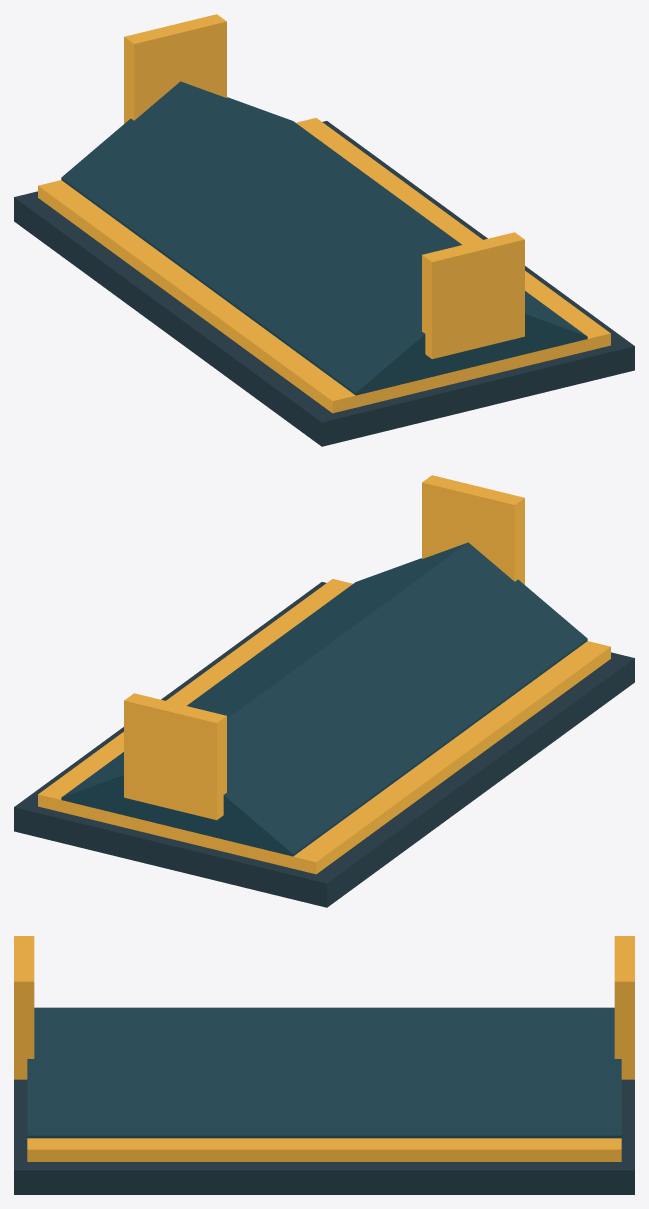
The model's file is seesaw-pivot.glb.
3 views of the same model, one above another, from view 1: azimuth 30°, elevation 25°; view 2: azimuth 150°, elevation 25°; view 3: azimuth 270°, elevation 25° (orthographic).
Visible parts, largest first — view 1: Frame.001, Dark, Rail, Frame, Rail.002, Rail.001; view 2: Frame.001, Dark, Rail, Frame, Rail.001, Rail.002; view 3: Frame, Dark, Rail, Rail.001, Rail.002.
Boxes of the visible parts, bbox=[...] form: Frame.001: bbox=[61, 81, 471, 395]; Dark: bbox=[14, 121, 634, 446]; Rail: bbox=[38, 118, 610, 413]; Frame: bbox=[181, 81, 587, 366]; Rail.002: bbox=[422, 232, 524, 359]; Rail.001: bbox=[124, 14, 226, 123]; Frame.001: bbox=[177, 542, 587, 856]; Dark: bbox=[14, 582, 634, 907]; Rail: bbox=[38, 579, 610, 874]; Frame: bbox=[61, 542, 467, 827]; Rail.001: bbox=[124, 693, 226, 820]; Rail.002: bbox=[422, 475, 524, 584]; Frame: bbox=[27, 1007, 621, 1138]; Dark: bbox=[14, 1079, 634, 1194]; Rail: bbox=[27, 1138, 621, 1161]; Rail.001: bbox=[614, 936, 634, 1079]; Rail.002: bbox=[14, 936, 34, 1079].
Size of the model in its own units: 27 by 13 by 46.
